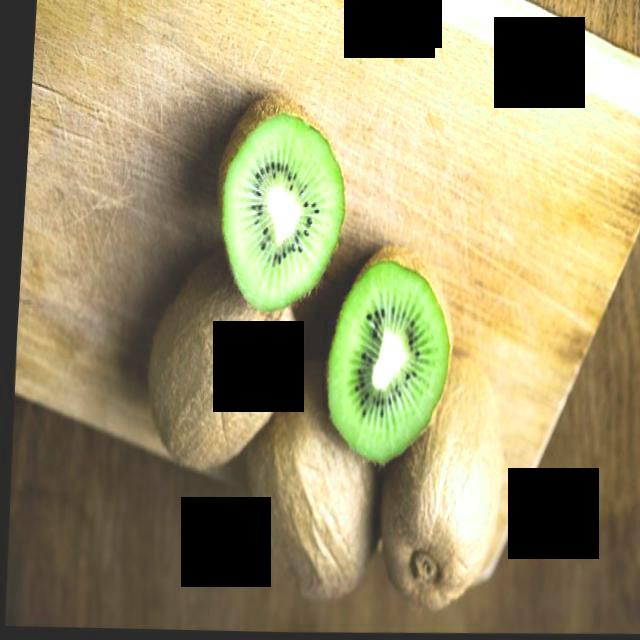kiwi: (141, 265, 302, 481), (378, 362, 511, 613), (239, 386, 383, 604)
